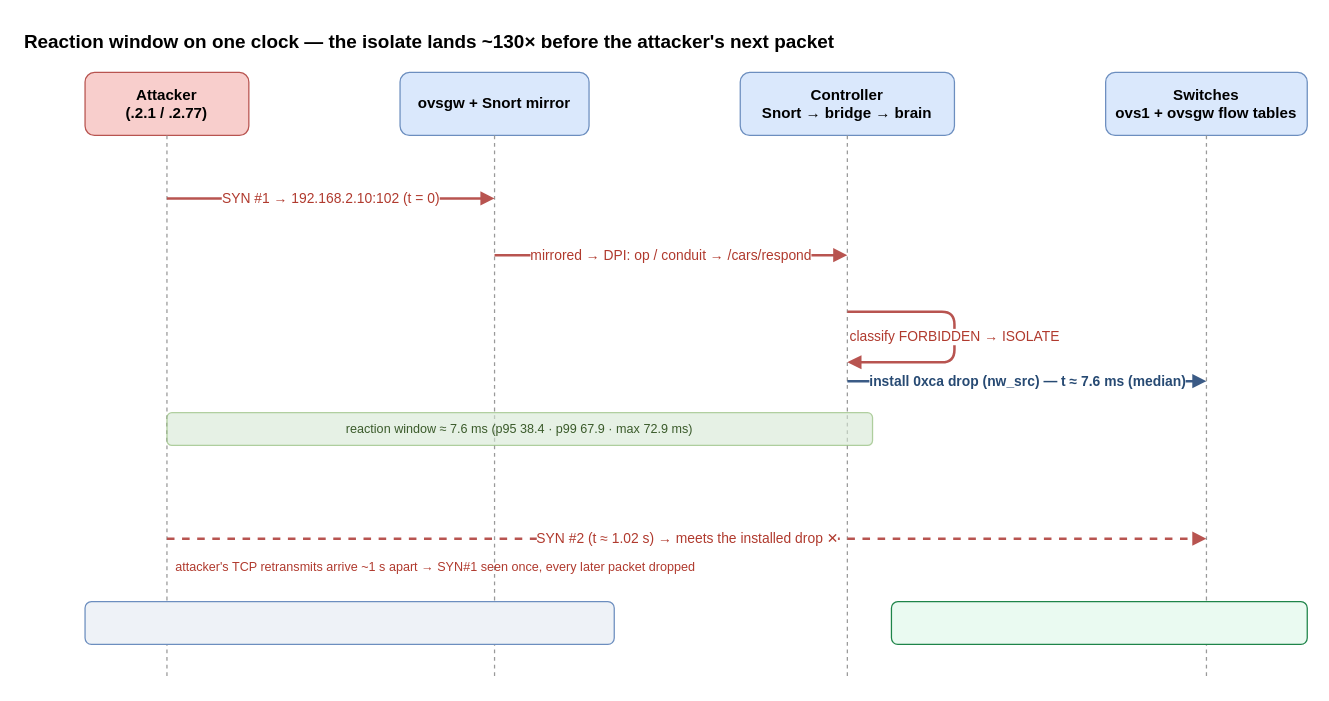
The diagram is 1329 pixels wide and 701 high, and some of its shapes have lost their labels. Here are the shapes that lost their labels. From the top down, the centre of each, then its label:
At point 349,622: "MTTM (n = 100): median 7.6 · p95 38.4 · p99 67.9 · max 72.9 ms".
At point 1098,622: "result: TCP connect timeout · 0 writes landed at PLC1".
